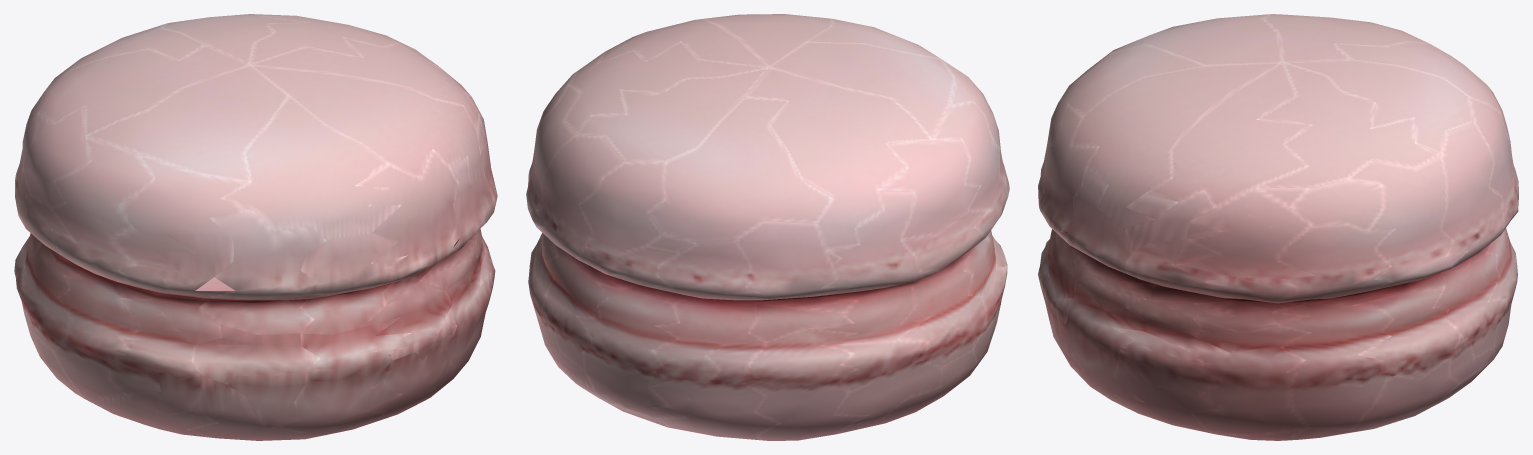
The model's file is 马卡龙.fbx.
The picture shows the model from 3 angles, left to right: view 1: azimuth 30°, elevation 25°; view 2: azimuth 150°, elevation 25°; view 3: azimuth 270°, elevation 25°; orthographic projection.
Parts seen in each view (by area): view 1: geometry_0.002; view 2: geometry_0.002; view 3: geometry_0.002.
Boxes of the visible parts, x1=… form: geometry_0.002: x1=14, y1=14, x2=497, y2=440; geometry_0.002: x1=526, y1=14, x2=1009, y2=440; geometry_0.002: x1=1038, y1=14, x2=1518, y2=440.
Size of the model in its own units: 98.74 by 72.51 by 98.46.
